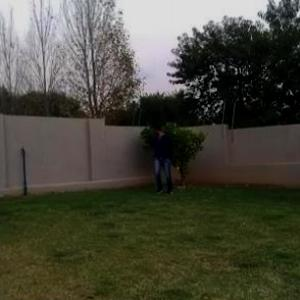follow: (153, 119, 173, 198)
